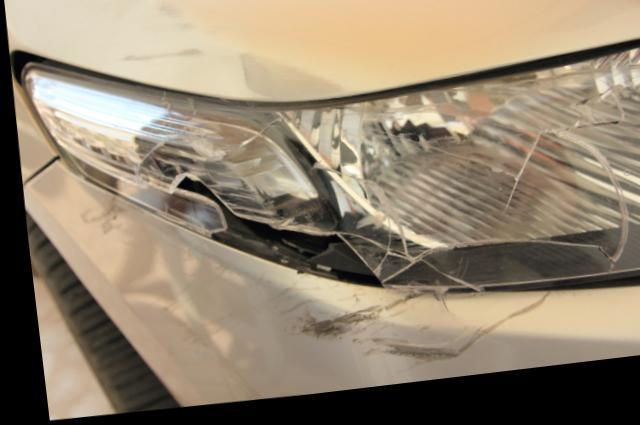lamp broken: (16, 54, 640, 309)
scratch: (77, 200, 258, 406), (256, 270, 545, 378), (106, 0, 344, 105)
